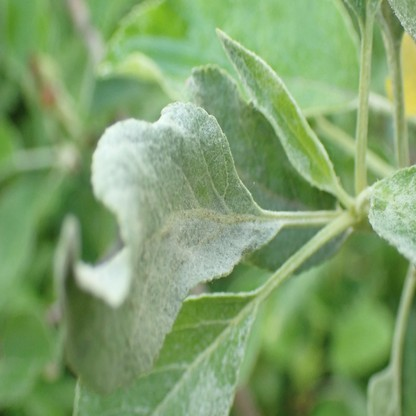powder: (92, 102, 281, 385), (182, 65, 323, 212), (78, 303, 258, 416), (216, 27, 312, 175), (368, 166, 416, 265), (389, 1, 416, 41)
